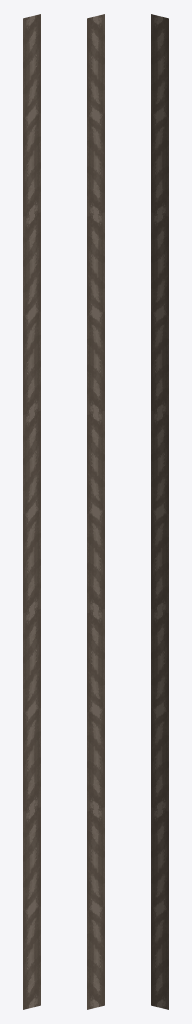
File: PRP_RopeHangingA.FBX
3 views of the same model, side by side, from view 1: azimuth 30°, elevation 25°; view 2: azimuth 210°, elevation 25°; view 3: azimuth 330°, elevation 25° (orthographic).
Visible parts, largest first — view 1: PRP_RopeHangingA; view 2: PRP_RopeHangingA; view 3: PRP_RopeHangingA.
Boxes of the visible parts, x1,y1,x2,y2 form: PRP_RopeHangingA: [23, 14, 40, 1009]; PRP_RopeHangingA: [87, 14, 104, 1009]; PRP_RopeHangingA: [151, 14, 168, 1009].
Size of the model in its own units: 11.54 by 600 by 8e-05.
1 material, 1 textured.
